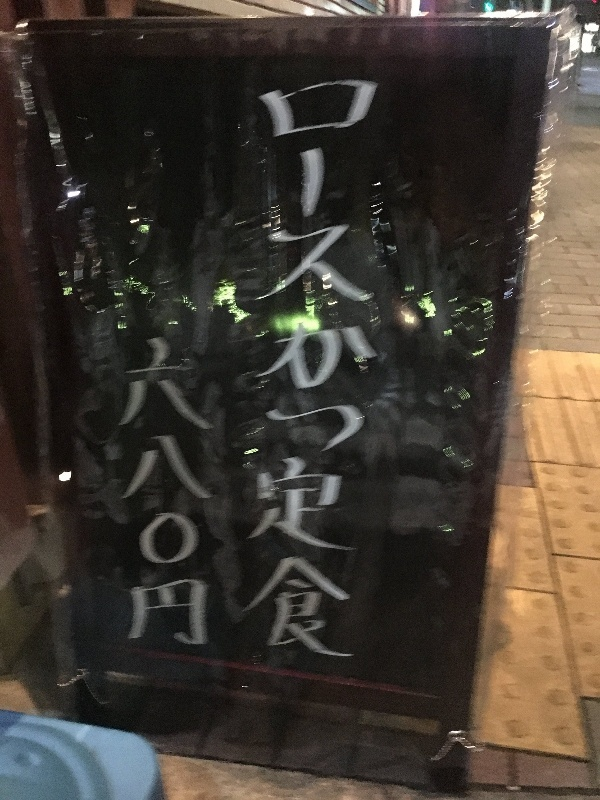text: (273, 72, 288, 667), (289, 72, 304, 667), (305, 72, 320, 667), (321, 72, 336, 667), (337, 72, 352, 667), (353, 72, 368, 667), (369, 72, 384, 667), (261, 72, 272, 667), (129, 338, 144, 659), (145, 338, 160, 659), (161, 338, 176, 659), (177, 338, 192, 659), (193, 338, 208, 659), (121, 338, 128, 659), (209, 338, 215, 659)
